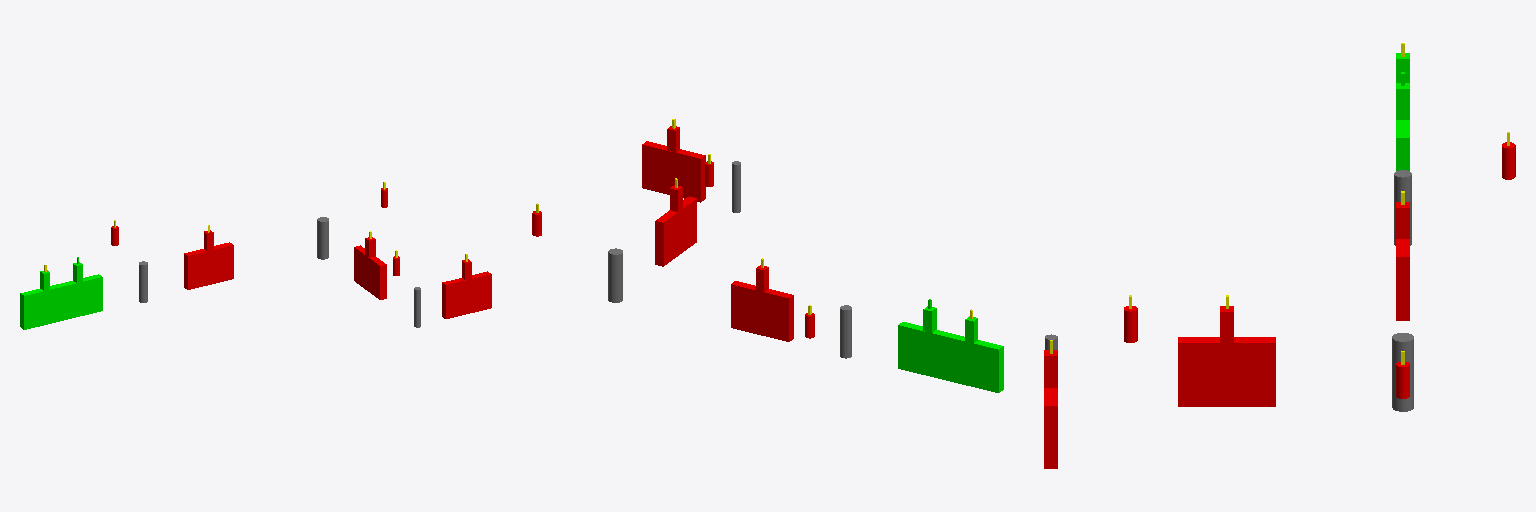
The robot description file, URDF, robot "lockbox_random1":
<?xml version="1.0"?>
<!-- created with Phobos 1.0.1 "Capricious Choutengan" -->
  <robot name="lockbox_random1">

    <link name="base_link">
    </link>

    <link name="goal">
      <visual name="visual_box_0_link_0.001">
        <origin xyz="0 0 0" rpy="0 0 0"/>
        <geometry>
          <box size="1.3976 0.1988 0.998"/>
        </geometry>
        <material name="green_translucent"/>
      </visual>
    </link>

    <link name="link_0_joint_0">
      <visual name="visual_box_0_link_0">
        <origin xyz="0 0 0" rpy="0 0 0"/>
        <geometry>
          <box size="1.399 0.199 0.999"/>
        </geometry>
        <material name="green"/>
      </visual>
      <collision name="collision_box_0_link_0">
        <origin xyz="0 0 0" rpy="0 0 0"/>
        <geometry>
          <box size="1.399 0.199 0.999"/>
        </geometry>
      </collision>
    </link>

    <link name="link_1_joint_0">
      <visual name="visual_mesh_3_link_1">
        <origin xyz="0 0 0" rpy="0 0 0"/>
        <geometry>
          <mesh filename="file://[local-path]/ba/puzzle-generator/puzzles/lockbox_random1/meshes/stl/slot_disc.stl" scale="1.0 1.0 1.0"/>
        </geometry>
        <material name="red"/>
      </visual>
      <collision concave="yes" name="collision_mesh_3_link_1">
        <origin xyz="0 0 0" rpy="0 0 0"/>
        <geometry>
          <mesh filename="file://[local-path]/ba/puzzle-generator/puzzles/lockbox_random1/meshes/stl/slot_disc.001.stl" scale="1.0 1.0 1.0"/>
        </geometry>
      </collision>
    </link>

    <link name="link_2_joint_0">
      <visual name="visual_box_7_link_2">
        <origin xyz="0 0 0" rpy="0 0 0"/>
        <geometry>
          <box size="1.399 0.199 0.999"/>
        </geometry>
        <material name="red"/>
      </visual>
      <collision name="collision_box_7_link_2">
        <origin xyz="0 0 0" rpy="0 0 0"/>
        <geometry>
          <box size="1.399 0.199 0.999"/>
        </geometry>
      </collision>
    </link>

    <link name="link_3_joint_0">
      <visual name="visual_mesh_10_link_3">
        <origin xyz="0 0 0" rpy="0 0 0"/>
        <geometry>
          <mesh filename="file://[local-path]/ba/puzzle-generator/puzzles/lockbox_random1/meshes/stl/slot_disc.002.stl" scale="1.0 1.0 1.0"/>
        </geometry>
        <material name="red"/>
      </visual>
      <collision concave="yes" name="collision_mesh_10_link_3">
        <origin xyz="0 0 0" rpy="0 0 0"/>
        <geometry>
          <mesh filename="file://[local-path]/ba/puzzle-generator/puzzles/lockbox_random1/meshes/stl/slot_disc.003.stl" scale="1.0 1.0 1.0"/>
        </geometry>
      </collision>
    </link>

    <link name="link_4_joint_0">
      <visual name="visual_box_14_link_4">
        <origin xyz="0 0 0" rpy="0 0 0"/>
        <geometry>
          <box size="1.399 0.199 0.999"/>
        </geometry>
        <material name="red"/>
      </visual>
      <collision name="collision_box_14_link_4">
        <origin xyz="0 0 0" rpy="0 0 0"/>
        <geometry>
          <box size="1.399 0.199 0.999"/>
        </geometry>
      </collision>
    </link>

    <link name="link_5_joint_0">
      <visual name="visual_mesh_17_link_5">
        <origin xyz="0 0 0" rpy="0 0 0"/>
        <geometry>
          <mesh filename="file://[local-path]/ba/puzzle-generator/puzzles/lockbox_random1/meshes/stl/slot_disc.004.stl" scale="1.0 1.0 1.0"/>
        </geometry>
        <material name="red"/>
      </visual>
      <collision concave="yes" name="collision_mesh_17_link_5">
        <origin xyz="0 0 0" rpy="0 0 0"/>
        <geometry>
          <mesh filename="file://[local-path]/ba/puzzle-generator/puzzles/lockbox_random1/meshes/stl/slot_disc.005.stl" scale="1.0 1.0 1.0"/>
        </geometry>
      </collision>
    </link>

    <link name="link_6_joint_0">
      <visual name="visual_box_21_link_6">
        <origin xyz="0 0 0" rpy="0 0 0"/>
        <geometry>
          <box size="1.399 0.199 0.999"/>
        </geometry>
        <material name="red"/>
      </visual>
      <collision name="collision_box_21_link_6">
        <origin xyz="0 0 0" rpy="0 0 0"/>
        <geometry>
          <box size="1.399 0.199 0.999"/>
        </geometry>
      </collision>
    </link>

    <link name="link_fixed_11_hinge">
      <visual name="visual_cylinder_fixed_11_hinge">
        <origin xyz="0 0 0" rpy="0 0 0"/>
        <geometry>
          <cylinder radius="0.15575" length="1.099"/>
        </geometry>
        <material name="gray"/>
      </visual>
    </link>

    <link name="link_fixed_12_handle_shaft">
      <visual name="visual_cylinder_fixed_12_handle_shaft">
        <origin xyz="0 0 0" rpy="0 0 0"/>
        <geometry>
          <cylinder radius="0.0995" length="0.499"/>
        </geometry>
        <material name="red"/>
      </visual>
      <collision name="collision_cylinder_fixed_12_handle_shaft">
        <origin xyz="0 0 0" rpy="0 0 0"/>
        <geometry>
          <cylinder radius="0.0995" length="0.499"/>
        </geometry>
      </collision>
    </link>

    <link name="link_fixed_13_handle_knob">
      <visual name="visual_box_fixed_13_handle_knob">
        <origin xyz="0 0 0" rpy="0 0 0"/>
        <geometry>
          <box size="0.049 0.049 0.199"/>
        </geometry>
        <material name="yellow"/>
      </visual>
      <collision name="collision_box_fixed_13_handle_knob">
        <origin xyz="0 0 0" rpy="0 0 0"/>
        <geometry>
          <box size="0.049 0.049 0.199"/>
        </geometry>
      </collision>
    </link>

    <link name="link_fixed_15_handle_shaft">
      <visual name="visual_box_fixed_15_handle_shaft">
        <origin xyz="0 0 0" rpy="0 0 0"/>
        <geometry>
          <box size="0.199 0.199 0.499"/>
        </geometry>
        <material name="red"/>
      </visual>
      <collision name="collision_box_fixed_15_handle_shaft">
        <origin xyz="0 0 0" rpy="0 0 0"/>
        <geometry>
          <box size="0.199 0.199 0.499"/>
        </geometry>
      </collision>
    </link>

    <link name="link_fixed_16_handle_knob">
      <visual name="visual_box_fixed_16_handle_knob">
        <origin xyz="0 0 0" rpy="0 0 0"/>
        <geometry>
          <box size="0.049 0.049 0.199"/>
        </geometry>
        <material name="yellow"/>
      </visual>
      <collision name="collision_box_fixed_16_handle_knob">
        <origin xyz="0 0 0" rpy="0 0 0"/>
        <geometry>
          <box size="0.049 0.049 0.199"/>
        </geometry>
      </collision>
    </link>

    <link name="link_fixed_18_hinge">
      <visual name="visual_cylinder_fixed_18_hinge">
        <origin xyz="0 0 0" rpy="0 0 0"/>
        <geometry>
          <cylinder radius="0.09325" length="1.099"/>
        </geometry>
        <material name="gray"/>
      </visual>
    </link>

    <link name="link_fixed_19_handle_shaft">
      <visual name="visual_cylinder_fixed_19_handle_shaft">
        <origin xyz="0 0 0" rpy="0 0 0"/>
        <geometry>
          <cylinder radius="0.0995" length="0.499"/>
        </geometry>
        <material name="red"/>
      </visual>
      <collision name="collision_cylinder_fixed_19_handle_shaft">
        <origin xyz="0 0 0" rpy="0 0 0"/>
        <geometry>
          <cylinder radius="0.0995" length="0.499"/>
        </geometry>
      </collision>
    </link>

    <link name="link_fixed_1_handle_shaft">
      <visual name="visual_box_fixed_1_handle_shaft">
        <origin xyz="0 0 0" rpy="0 0 0"/>
        <geometry>
          <box size="0.199 0.199 0.499"/>
        </geometry>
        <material name="green"/>
      </visual>
      <collision name="collision_box_fixed_1_handle_shaft">
        <origin xyz="0 0 0" rpy="0 0 0"/>
        <geometry>
          <box size="0.199 0.199 0.499"/>
        </geometry>
      </collision>
    </link>

    <link name="link_fixed_1_handle_shaft.001">
      <visual name="visual_box_fixed_1_handle_shaft.001">
        <origin xyz="0 0 0" rpy="0 0 0"/>
        <geometry>
          <box size="0.1988 0.1988 0.4985"/>
        </geometry>
        <material name="green_translucent"/>
      </visual>
    </link>

    <link name="link_fixed_20_handle_knob">
      <visual name="visual_box_fixed_20_handle_knob">
        <origin xyz="0 0 0" rpy="0 0 0"/>
        <geometry>
          <box size="0.049 0.049 0.199"/>
        </geometry>
        <material name="yellow"/>
      </visual>
      <collision name="collision_box_fixed_20_handle_knob">
        <origin xyz="0 0 0" rpy="0 0 0"/>
        <geometry>
          <box size="0.049 0.049 0.199"/>
        </geometry>
      </collision>
    </link>

    <link name="link_fixed_22_handle_shaft">
      <visual name="visual_box_fixed_22_handle_shaft">
        <origin xyz="0 0 0" rpy="0 0 0"/>
        <geometry>
          <box size="0.199 0.199 0.499"/>
        </geometry>
        <material name="red"/>
      </visual>
      <collision name="collision_box_fixed_22_handle_shaft">
        <origin xyz="0 0 0" rpy="0 0 0"/>
        <geometry>
          <box size="0.199 0.199 0.499"/>
        </geometry>
      </collision>
    </link>

    <link name="link_fixed_23_handle_knob">
      <visual name="visual_box_fixed_23_handle_knob">
        <origin xyz="0 0 0" rpy="0 0 0"/>
        <geometry>
          <box size="0.049 0.049 0.199"/>
        </geometry>
        <material name="yellow"/>
      </visual>
      <collision name="collision_box_fixed_23_handle_knob">
        <origin xyz="0 0 0" rpy="0 0 0"/>
        <geometry>
          <box size="0.049 0.049 0.199"/>
        </geometry>
      </collision>
    </link>

    <link name="link_fixed_2_handle_knob">
      <visual name="visual_box_fixed_2_handle_knob">
        <origin xyz="0 0 0" rpy="0 0 0"/>
        <geometry>
          <box size="0.049 0.049 0.199"/>
        </geometry>
        <material name="yellow"/>
      </visual>
      <collision name="collision_box_fixed_2_handle_knob">
        <origin xyz="0 0 0" rpy="0 0 0"/>
        <geometry>
          <box size="0.049 0.049 0.199"/>
        </geometry>
      </collision>
    </link>

    <link name="link_fixed_2_handle_knob.001">
      <visual name="visual_box_fixed_2_handle_knob.001">
        <origin xyz="0 0 0" rpy="0 0 0"/>
        <geometry>
          <box size="0.04895 0.04895 0.1988"/>
        </geometry>
        <material name="green_translucent"/>
      </visual>
    </link>

    <link name="link_fixed_4_hinge">
      <visual name="visual_cylinder_fixed_4_hinge">
        <origin xyz="0 0 0" rpy="0 0 0"/>
        <geometry>
          <cylinder radius="0.1245" length="1.099"/>
        </geometry>
        <material name="gray"/>
      </visual>
    </link>

    <link name="link_fixed_5_handle_shaft">
      <visual name="visual_cylinder_fixed_5_handle_shaft">
        <origin xyz="0 0 0" rpy="0 0 0"/>
        <geometry>
          <cylinder radius="0.0995" length="0.499"/>
        </geometry>
        <material name="red"/>
      </visual>
      <collision name="collision_cylinder_fixed_5_handle_shaft">
        <origin xyz="0 0 0" rpy="0 0 0"/>
        <geometry>
          <cylinder radius="0.0995" length="0.499"/>
        </geometry>
      </collision>
    </link>

    <link name="link_fixed_6_handle_knob">
      <visual name="visual_box_fixed_6_handle_knob">
        <origin xyz="0 0 0" rpy="0 0 0"/>
        <geometry>
          <box size="0.049 0.049 0.199"/>
        </geometry>
        <material name="yellow"/>
      </visual>
      <collision name="collision_box_fixed_6_handle_knob">
        <origin xyz="0 0 0" rpy="0 0 0"/>
        <geometry>
          <box size="0.049 0.049 0.199"/>
        </geometry>
      </collision>
    </link>

    <link name="link_fixed_8_handle_shaft">
      <visual name="visual_box_fixed_8_handle_shaft">
        <origin xyz="0 0 0" rpy="0 0 0"/>
        <geometry>
          <box size="0.199 0.199 0.499"/>
        </geometry>
        <material name="red"/>
      </visual>
      <collision name="collision_box_fixed_8_handle_shaft">
        <origin xyz="0 0 0" rpy="0 0 0"/>
        <geometry>
          <box size="0.199 0.199 0.499"/>
        </geometry>
      </collision>
    </link>

    <link name="link_fixed_9_handle_knob">
      <visual name="visual_box_fixed_9_handle_knob">
        <origin xyz="0 0 0" rpy="0 0 0"/>
        <geometry>
          <box size="0.049 0.049 0.199"/>
        </geometry>
        <material name="yellow"/>
      </visual>
      <collision name="collision_box_fixed_9_handle_knob">
        <origin xyz="0 0 0" rpy="0 0 0"/>
        <geometry>
          <box size="0.049 0.049 0.199"/>
        </geometry>
      </collision>
    </link>

    <joint name="goal" type="fixed">
      <origin xyz="1.0 0 0.5" rpy="0 0 0"/>
      <parent link="base_link"/>
      <child link="goal"/>
      <limit effort="0" velocity="0"/>
    </joint>

    <joint name="link_0_joint_0" type="prismatic">
      <origin xyz="0 0 0.5" rpy="0 0 0"/>
      <parent link="base_link"/>
      <child link="link_0_joint_0"/>
      <axis xyz="1.0 0 0"/>
      <limit lower="0" upper="1.0" effort="0" velocity="0"/>
    </joint>

    <joint name="link_1_joint_0" type="revolute">
      <origin xyz="3.0 0 0.5" rpy="0 0 0"/>
      <parent link="base_link"/>
      <child link="link_1_joint_0"/>
      <axis xyz="0 0 1.0"/>
      <limit lower="-3.14159" upper="3.14159" effort="0" velocity="0"/>
    </joint>

    <joint name="link_2_joint_0" type="prismatic">
      <origin xyz="5.0 0 0.5" rpy="0 0 0"/>
      <parent link="base_link"/>
      <child link="link_2_joint_0"/>
      <axis xyz="1.0 0 0"/>
      <limit lower="0" upper="1.0" effort="0" velocity="0"/>
    </joint>

    <joint name="link_3_joint_0" type="revolute">
      <origin xyz="8.5 0 0.5" rpy="0 0 -1.5708"/>
      <parent link="base_link"/>
      <child link="link_3_joint_0"/>
      <axis xyz="0 0 1.0"/>
      <limit lower="-3.14159" upper="3.14159" effort="0" velocity="0"/>
    </joint>

    <joint name="link_4_joint_0" type="prismatic">
      <origin xyz="8.5 -2.5 0.5" rpy="0 0 -1.5708"/>
      <parent link="base_link"/>
      <child link="link_4_joint_0"/>
      <axis xyz="1.0 0 0"/>
      <limit lower="0" upper="1.0" effort="0" velocity="0"/>
    </joint>

    <joint name="link_5_joint_0" type="revolute">
      <origin xyz="8.5 -5.0 0.5" rpy="0 0 0"/>
      <parent link="base_link"/>
      <child link="link_5_joint_0"/>
      <axis xyz="0 0 1.0"/>
      <limit lower="-3.14159" upper="3.14159" effort="0" velocity="0"/>
    </joint>

    <joint name="link_6_joint_0" type="prismatic">
      <origin xyz="10.0 -5.0 0.5" rpy="0 0 0"/>
      <parent link="base_link"/>
      <child link="link_6_joint_0"/>
      <axis xyz="1.0 0 0"/>
      <limit lower="0" upper="1.0" effort="0" velocity="0"/>
    </joint>

    <joint name="link_fixed_11_hinge" type="fixed">
      <origin xyz="0 0 0" rpy="0 0 0"/>
      <parent link="link_3_joint_0"/>
      <child link="link_fixed_11_hinge"/>
    </joint>

    <joint name="link_fixed_12_handle_shaft" type="fixed">
      <origin xyz="0 1.875 0.75" rpy="0 0 0"/>
      <parent link="link_3_joint_0"/>
      <child link="link_fixed_12_handle_shaft"/>
    </joint>

    <joint name="link_fixed_13_handle_knob" type="fixed">
      <origin xyz="0 0 0.35" rpy="0 0 0"/>
      <parent link="link_fixed_12_handle_shaft"/>
      <child link="link_fixed_13_handle_knob"/>
    </joint>

    <joint name="link_fixed_15_handle_shaft" type="fixed">
      <origin xyz="0 0 0.75" rpy="0 0 0"/>
      <parent link="link_4_joint_0"/>
      <child link="link_fixed_15_handle_shaft"/>
    </joint>

    <joint name="link_fixed_16_handle_knob" type="fixed">
      <origin xyz="0 0 0.35" rpy="0 0 0"/>
      <parent link="link_fixed_15_handle_shaft"/>
      <child link="link_fixed_16_handle_knob"/>
    </joint>

    <joint name="link_fixed_18_hinge" type="fixed">
      <origin xyz="0 0 0" rpy="0 0 0"/>
      <parent link="link_5_joint_0"/>
      <child link="link_fixed_18_hinge"/>
    </joint>

    <joint name="link_fixed_19_handle_shaft" type="fixed">
      <origin xyz="0 1.125 0.75" rpy="0 0 0"/>
      <parent link="link_5_joint_0"/>
      <child link="link_fixed_19_handle_shaft"/>
    </joint>

    <joint name="link_fixed_1_handle_shaft" type="fixed">
      <origin xyz="0 0 0.75" rpy="0 0 0"/>
      <parent link="link_0_joint_0"/>
      <child link="link_fixed_1_handle_shaft"/>
    </joint>

    <joint name="link_fixed_1_handle_shaft.001" type="fixed">
      <origin xyz="0 0 0.74925" rpy="0 0 0"/>
      <parent link="goal"/>
      <child link="link_fixed_1_handle_shaft.001"/>
    </joint>

    <joint name="link_fixed_20_handle_knob" type="fixed">
      <origin xyz="0 0 0.35" rpy="0 0 0"/>
      <parent link="link_fixed_19_handle_shaft"/>
      <child link="link_fixed_20_handle_knob"/>
    </joint>

    <joint name="link_fixed_22_handle_shaft" type="fixed">
      <origin xyz="0 0 0.75" rpy="0 0 0"/>
      <parent link="link_6_joint_0"/>
      <child link="link_fixed_22_handle_shaft"/>
    </joint>

    <joint name="link_fixed_23_handle_knob" type="fixed">
      <origin xyz="0 0 0.35" rpy="0 0 0"/>
      <parent link="link_fixed_22_handle_shaft"/>
      <child link="link_fixed_23_handle_knob"/>
    </joint>

    <joint name="link_fixed_2_handle_knob" type="fixed">
      <origin xyz="0 0 0.35" rpy="0 0 0"/>
      <parent link="link_fixed_1_handle_shaft"/>
      <child link="link_fixed_2_handle_knob"/>
    </joint>

    <joint name="link_fixed_2_handle_knob.001" type="fixed">
      <origin xyz="0 0 0.34965" rpy="0 0 0"/>
      <parent link="link_fixed_1_handle_shaft.001"/>
      <child link="link_fixed_2_handle_knob.001"/>
    </joint>

    <joint name="link_fixed_4_hinge" type="fixed">
      <origin xyz="0 0 0" rpy="0 0 0"/>
      <parent link="link_1_joint_0"/>
      <child link="link_fixed_4_hinge"/>
    </joint>

    <joint name="link_fixed_5_handle_shaft" type="fixed">
      <origin xyz="0 1.5 0.75" rpy="0 0 0"/>
      <parent link="link_1_joint_0"/>
      <child link="link_fixed_5_handle_shaft"/>
    </joint>

    <joint name="link_fixed_6_handle_knob" type="fixed">
      <origin xyz="0 0 0.35" rpy="0 0 0"/>
      <parent link="link_fixed_5_handle_shaft"/>
      <child link="link_fixed_6_handle_knob"/>
    </joint>

    <joint name="link_fixed_8_handle_shaft" type="fixed">
      <origin xyz="0 0 0.75" rpy="0 0 0"/>
      <parent link="link_2_joint_0"/>
      <child link="link_fixed_8_handle_shaft"/>
    </joint>

    <joint name="link_fixed_9_handle_knob" type="fixed">
      <origin xyz="0 0 0.35" rpy="0 0 0"/>
      <parent link="link_fixed_8_handle_shaft"/>
      <child link="link_fixed_9_handle_knob"/>
    </joint>

    <material name="gray">
      <color rgba="0.5 0.5 0.5 1.0"/>
    </material>

    <material name="green">
      <color rgba="0 1.0 0 1.0"/>
    </material>

    <material name="green_translucent">
      <color rgba="0 1.0 0 0.25"/>
    </material>

    <material name="red">
      <color rgba="1.0 0 0 1.0"/>
    </material>

    <material name="yellow">
      <color rgba="1.0 1.0 0 1.0"/>
    </material>

  </robot>

--- What the picture shows (computed from the rendered views, not written in the file) ---
Views: 3 orthographic renders of the robot side by side, from view 1: azimuth 30°, elevation 25°; view 2: azimuth 150°, elevation 25°; view 3: azimuth 270°, elevation 25°.
Robot: lockbox_random1 — 28 links, 27 joints (3 revolute, 4 prismatic, 20 fixed); root link base_link; default pose: all joints at 0.
Links seen in each view (by area): view 1: link_0_joint_0, link_6_joint_0, link_2_joint_0, link_4_joint_0, goal; view 2: link_0_joint_0, link_2_joint_0, link_6_joint_0, link_4_joint_0, goal, link_fixed_11_hinge, link_fixed_4_hinge; view 3: link_4_joint_0, link_fixed_11_hinge, link_2_joint_0, link_6_joint_0, goal, link_fixed_4_hinge.
Link boxes in pixels (x1=…): link_0_joint_0: x1=20, y1=282, x2=69, y2=329; link_6_joint_0: x1=442, y1=271, x2=491, y2=318; link_2_joint_0: x1=184, y1=242, x2=233, y2=289; link_4_joint_0: x1=354, y1=245, x2=386, y2=299; goal: x1=67, y1=274, x2=102, y2=318; link_0_joint_0: x1=940, y1=332, x2=1003, y2=392; link_2_joint_0: x1=731, y1=281, x2=793, y2=341; link_6_joint_0: x1=642, y1=141, x2=705, y2=202; link_4_joint_0: x1=655, y1=196, x2=696, y2=266; goal: x1=898, y1=322, x2=943, y2=378; link_fixed_11_hinge: x1=608, y1=248, x2=622, y2=302; link_fixed_4_hinge: x1=840, y1=305, x2=851, y2=358; link_4_joint_0: x1=1178, y1=337, x2=1275, y2=406; link_fixed_11_hinge: x1=1392, y1=333, x2=1413, y2=411; link_2_joint_0: x1=1396, y1=239, x2=1409, y2=320; link_6_joint_0: x1=1044, y1=388, x2=1057, y2=468; goal: x1=1396, y1=120, x2=1409, y2=170; link_fixed_4_hinge: x1=1394, y1=170, x2=1411, y2=245.
Bounding box of the posed robot: 11.4 × 6.7 × 1.75 m (x, y, z).
Geometry: only primitive shapes (box / cylinder / sphere) drawn; not drawn: 3 mesh visuals (reference in a form the renderer does not follow).